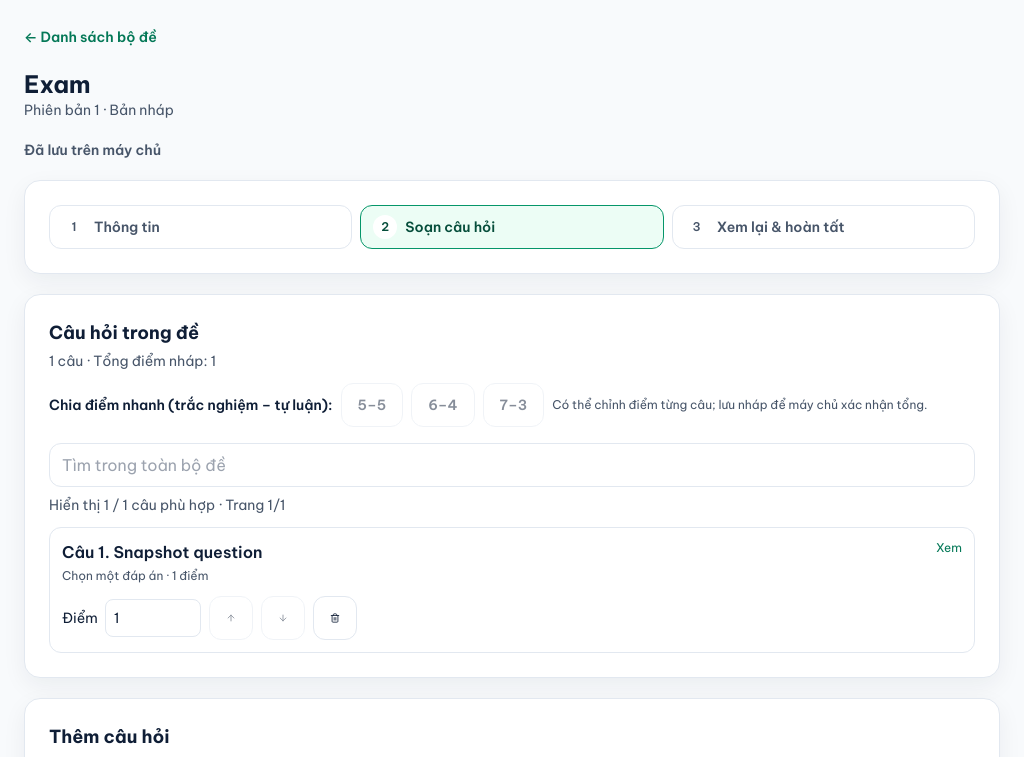
Test: assessment draft UI › renders saved snapshot and keeps assignment prototype separate
expect the text "Choice A" is not shown: met
Click the button "Câu 1. Snapshot question Xem" at point(80, 552), box [62,540,962,564]
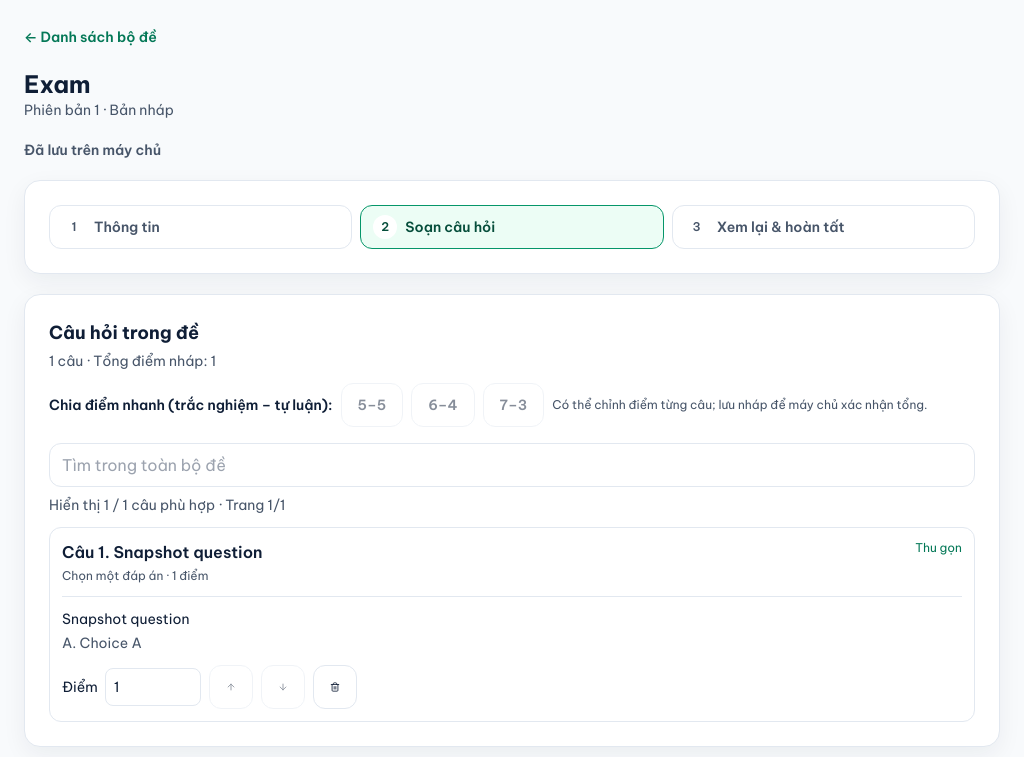
expect the text "Choice A" is shown: met, box [80,634,142,652]
